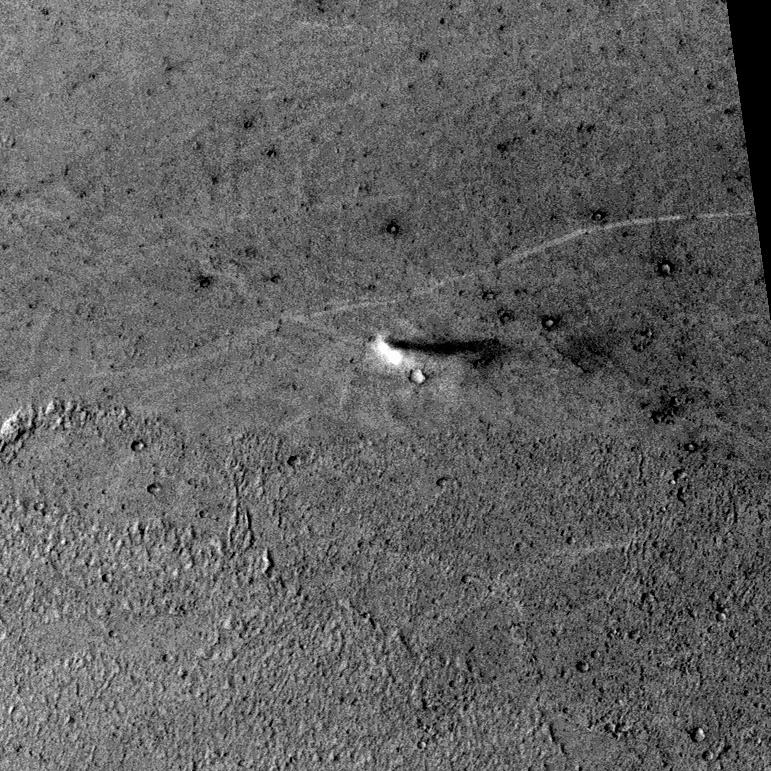dust_devil: (368, 329, 503, 369)
